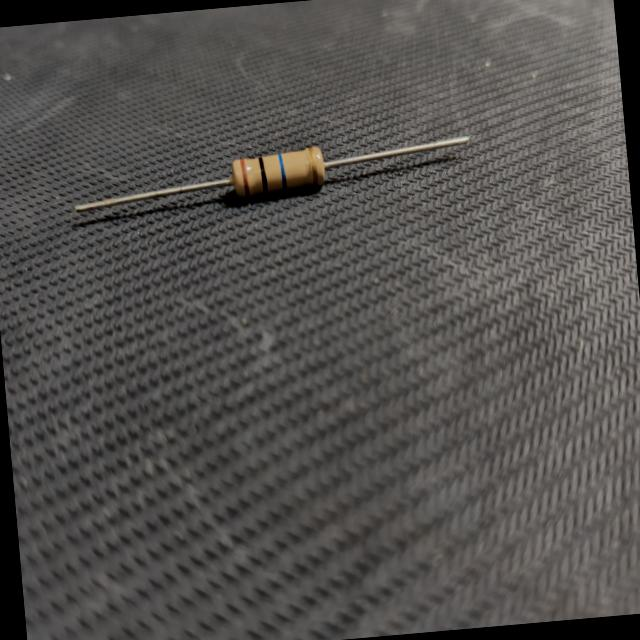resistor: (64, 113, 484, 241)
